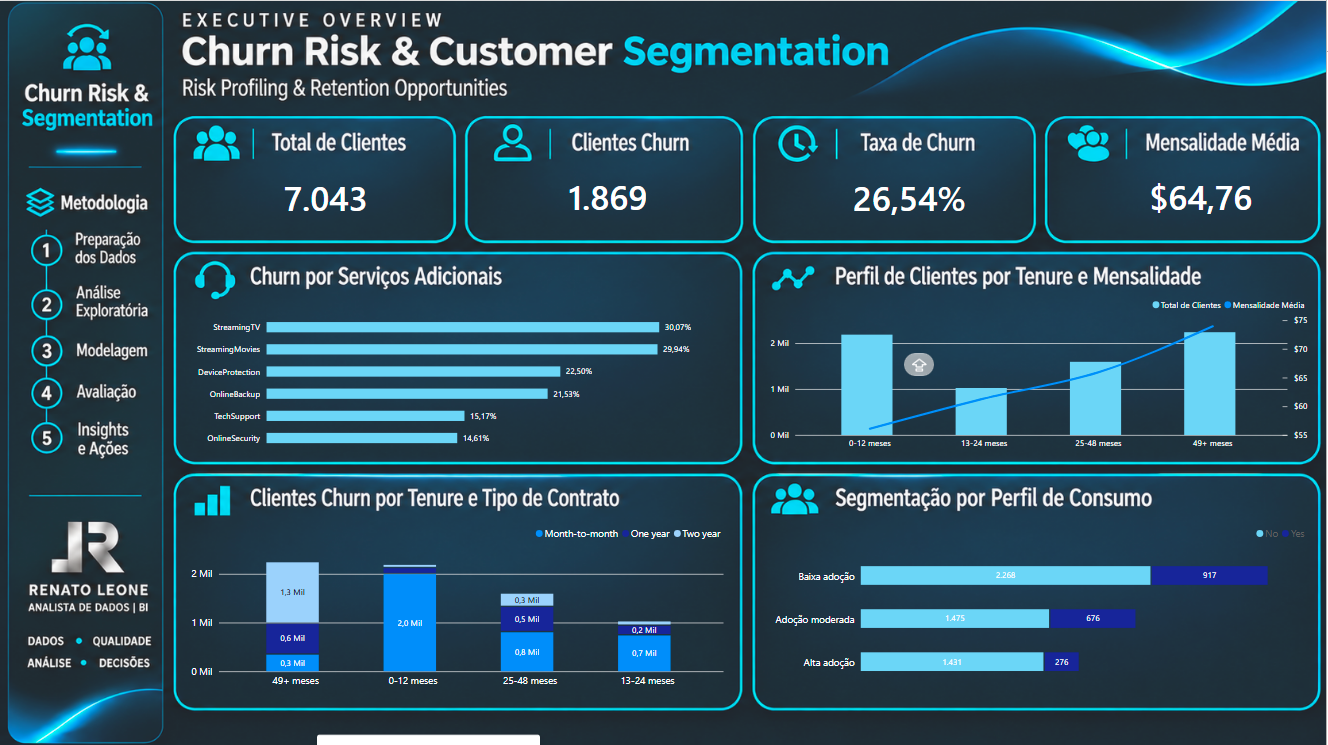

This screenshot's page, from the dashboard's own definition file:
{"tool":"powerbi","page":{"name":"03_CHURN RISK & CUSTOMER SEGMENTATION","canvas":[1920,1080],"ordinal":2},"visuals":[{"type":"lineStackedColumnComboChart","title":"Perfil de Clientes — Tenure × Mensalidade","fields":{"Category":["customer_churn_clean.TenureGroup"],"Y":["customer_churn_clean.Total de Clientes"],"Y2":["customer_churn_clean.Mensalidade Média"]},"box":[1098.9,411.3,810.6,258.2],"z":6000},{"type":"columnChart","title":"Clientes Churn por Tenure e Tipo de Contrato","fields":{"Category":["customer_churn_clean.TenureGroup"],"Series":["customer_churn_clean.Contract"],"Y":["CountNonNull(customer_churn_clean.customerID)"]},"box":[261.2,741.6,803.1,273.2],"z":7000},{"type":"cardVisual","fields":{"Data":["customer_churn_clean.Clientes Churn"]},"box":[734.1,217.7,292.5,131.8],"z":7002},{"type":"cardVisual","fields":{"Data":["customer_churn_clean.Mensalidade Média"]},"box":[1592.7,216.2,292.5,133.2],"z":7003},{"type":"cardVisual","fields":{"Data":["customer_churn_clean.Taxa de Churn"]},"box":[1170.9,216.2,291.2,135.1],"z":7005},{"type":"cardVisual","fields":{"Data":["customer_churn_clean.Total de Clientes"]},"box":[318.2,216.2,307,134.7],"z":7006},{"type":"barChart","fields":{"Category":["ServicosAdicionais.Serviço"],"Y":["ServicosAdicionais.Churn % por Serviço"]},"box":[261.2,429.3,803.1,240.2],"z":7007},{"type":"barChart","fields":{"Category":["customer_churn_clean.Perfil_Consumo"],"Series":["customer_churn_clean.Churn"],"Y":["customer_churn_clean.Total de Clientes"]},"box":[1098.5,742,810.8,273.8],"z":7008}]}

Visuals, with their boxes in screenshot pixels (x1, y1, x2, y2), scaled from the page's 1920x1080 canvas onto the 1328x745 screenshot:
"Perfil de Clientes — Tenure × Mensalidade" lineStackedColumnComboChart: (760,284,1321,462)
"Clientes Churn por Tenure e Tipo de Contrato" columnChart: (181,512,736,700)
cardVisual - customer_churn_clean.Clientes Churn: (508,150,710,241)
cardVisual - customer_churn_clean.Mensalidade Média: (1102,149,1304,241)
cardVisual - customer_churn_clean.Taxa de Churn: (810,149,1011,242)
cardVisual - customer_churn_clean.Total de Clientes: (220,149,432,242)
barChart - ServicosAdicionais.Serviço x ServicosAdicionais.Churn % por Serviço: (181,296,736,462)
barChart - customer_churn_clean.Perfil_Consumo x customer_churn_clean.Churn: (760,512,1321,701)
